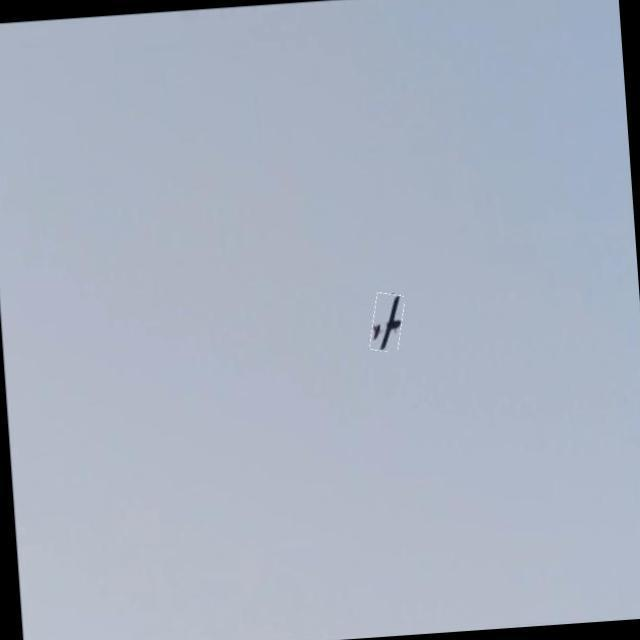iha: (349, 314, 407, 327)
